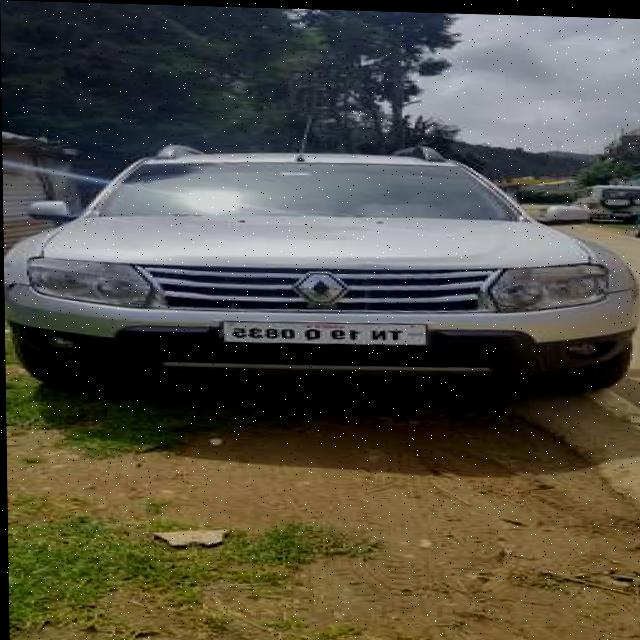plate: (215, 317, 429, 347)
